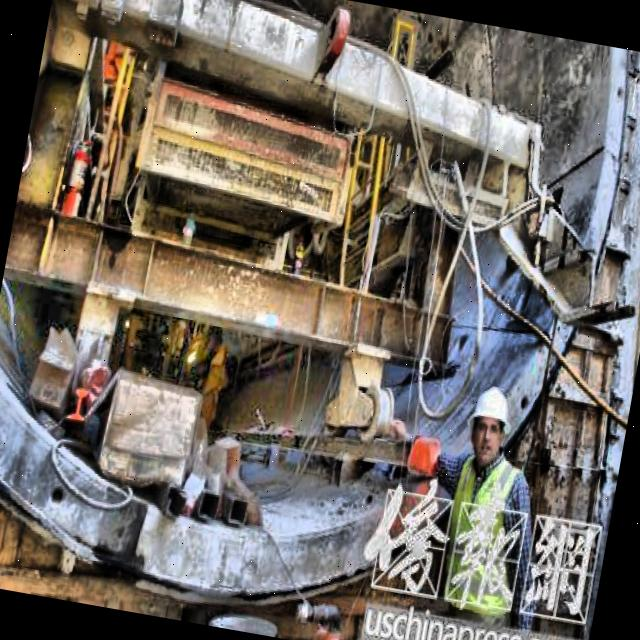helmet: (460, 379, 516, 469)
